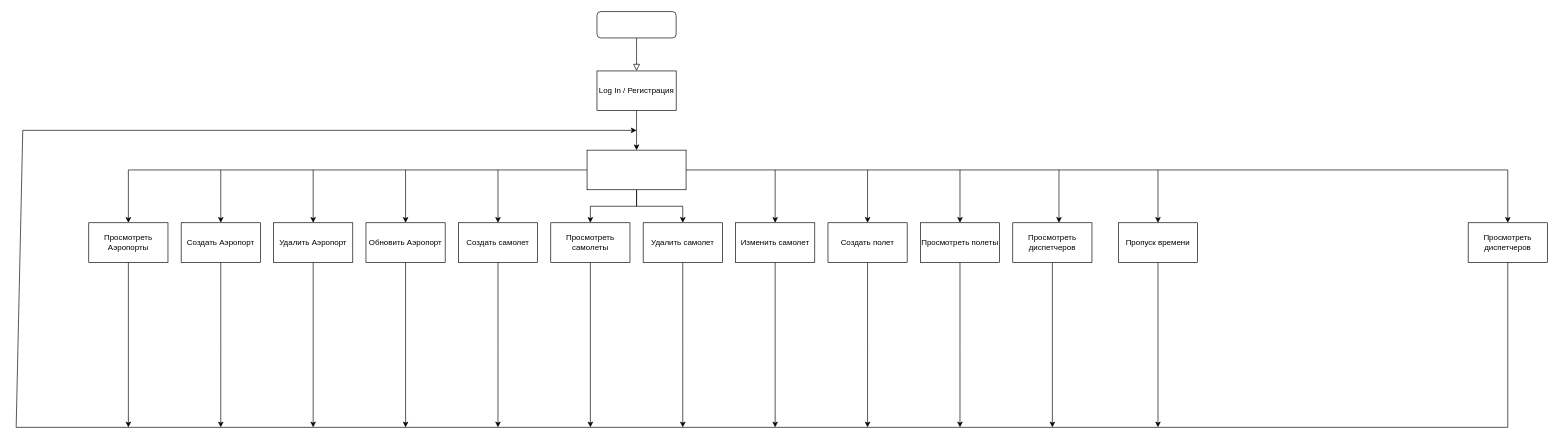
Image size: 1559x444. Some labels were removed from this diagram. Each missing label, with the centre of its shape:
Выбор действия: the point at 636,169
Запуск клиента: the point at 636,24
